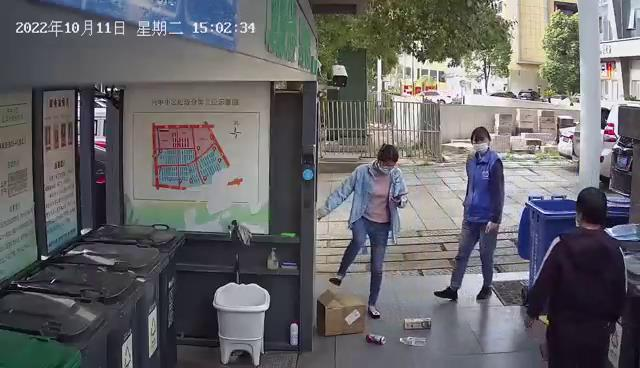lvzhipin: (365, 331, 387, 346)
person: (521, 184, 630, 368)
suliaozhipin: (398, 335, 432, 348)
worker: (315, 141, 411, 322), (430, 123, 509, 306)
zhizhipin: (313, 286, 369, 338), (401, 315, 434, 332)
